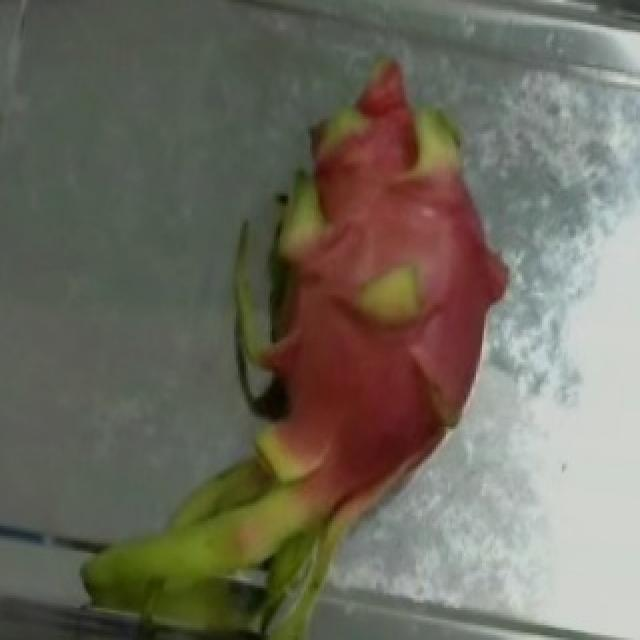fruit: (146, 20, 542, 439), (124, 243, 528, 638)
